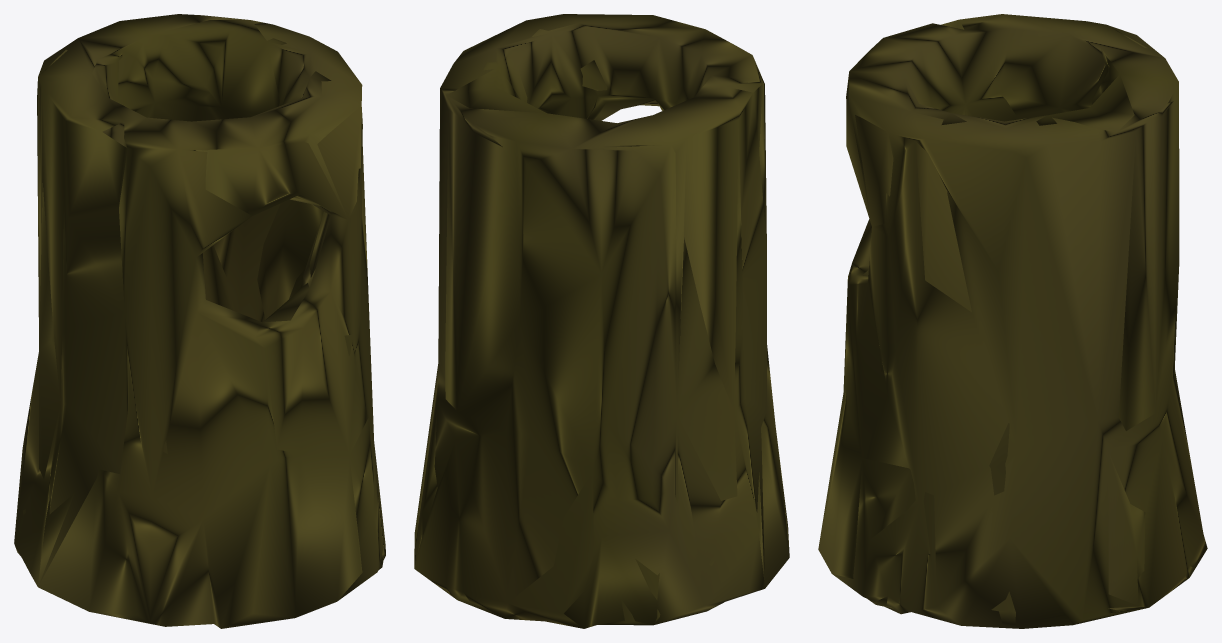
File: gen3d-hollow-tree-trunk-lod1.glb
3 renders of one model, left to right at view 1: azimuth 30°, elevation 25°; view 2: azimuth 150°, elevation 25°; view 3: azimuth 270°, elevation 25°, orthographic.
Parts seen in each view (by area): view 1: part_0; view 2: part_0; view 3: part_0.
Boxes of the visible parts, bbox=[...] form: part_0: bbox=[14, 14, 385, 628]; part_0: bbox=[414, 14, 789, 628]; part_0: bbox=[818, 14, 1207, 628].
Bounding box in the file's own units: 0.716 × 0.9997 × 0.7391.
